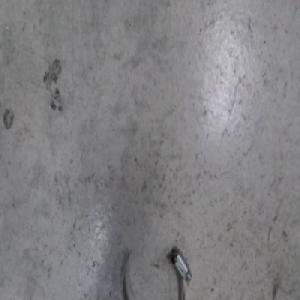AdjustableClamp: (119, 246, 193, 300)
